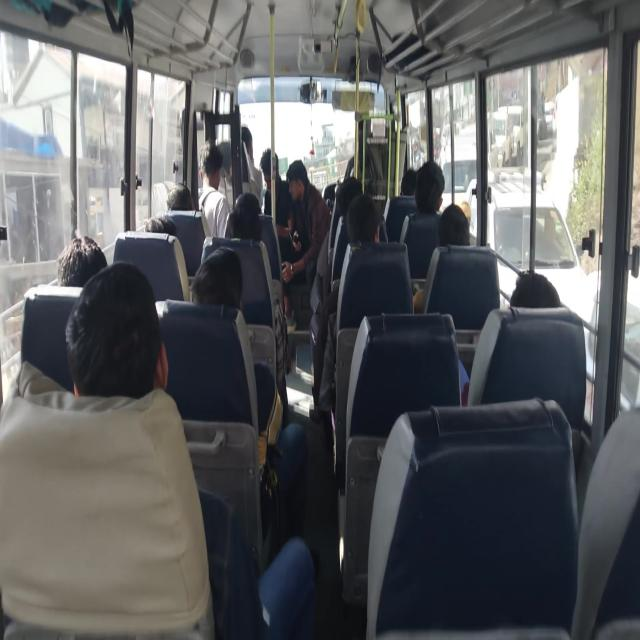person: (0, 260, 215, 638), (190, 245, 308, 544), (314, 194, 386, 420), (570, 406, 640, 638), (65, 261, 168, 398), (459, 269, 561, 405), (412, 202, 470, 313), (280, 159, 331, 285), (400, 160, 445, 280), (190, 245, 243, 309), (198, 140, 230, 238), (259, 148, 293, 240), (56, 235, 108, 287), (508, 269, 561, 309), (240, 126, 262, 210), (414, 160, 444, 215), (437, 203, 470, 246), (165, 182, 194, 210)
